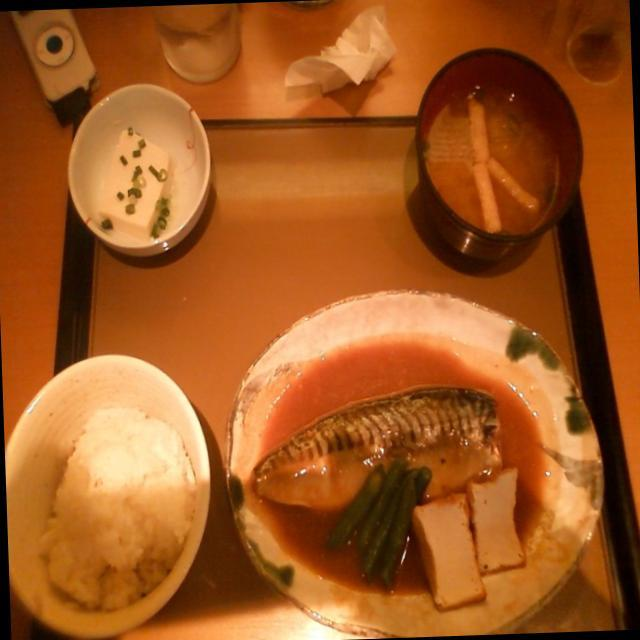Rice: (30, 384, 198, 616)
